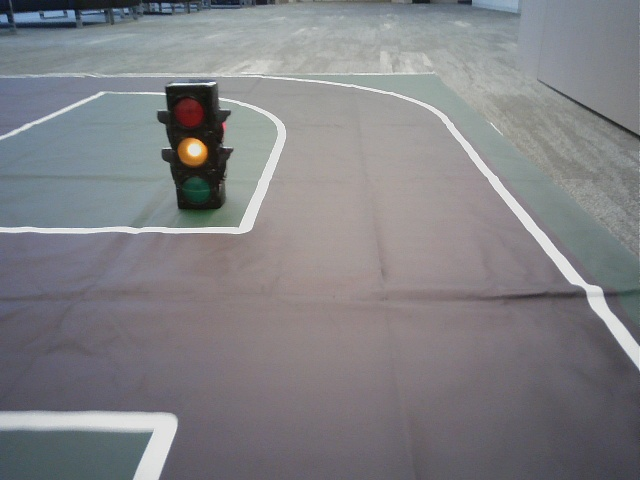yellow: (168, 90, 218, 203)
